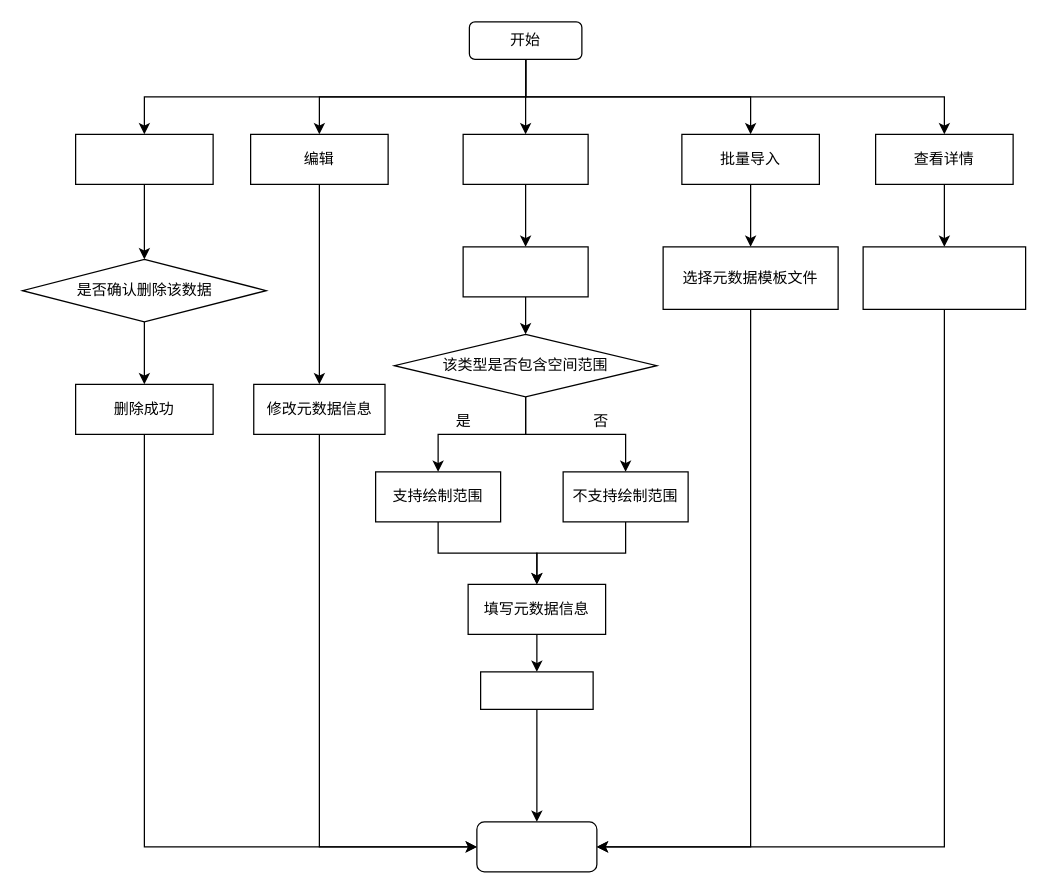
Some shapes in this 1048 by 894 pixel diagram are drawn without their labels. Each missing label, with the centre of its shape:
保存: pixel 536 690
删除: pixel 143 158
新增: pixel 525 158
点击调整详情页面: pixel 944 277
结束: pixel 536 846
选择元数据类型: pixel 525 271
